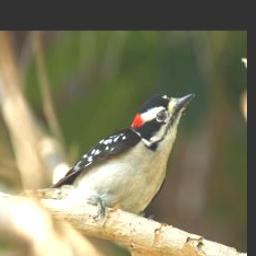Woodpecker: (17, 84, 196, 224)
